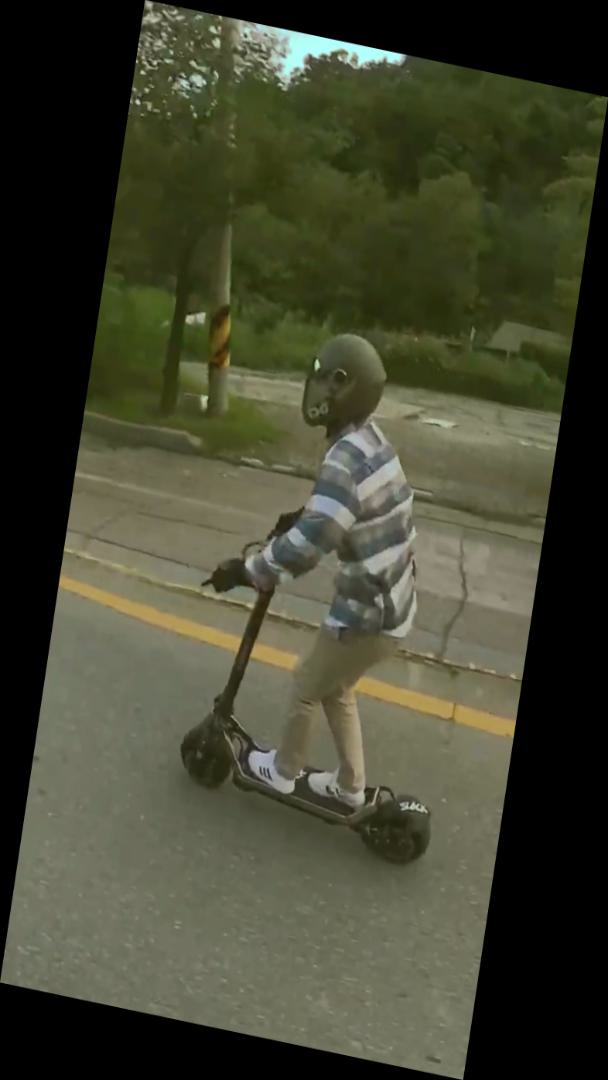helmet: (163, 306, 505, 874)
